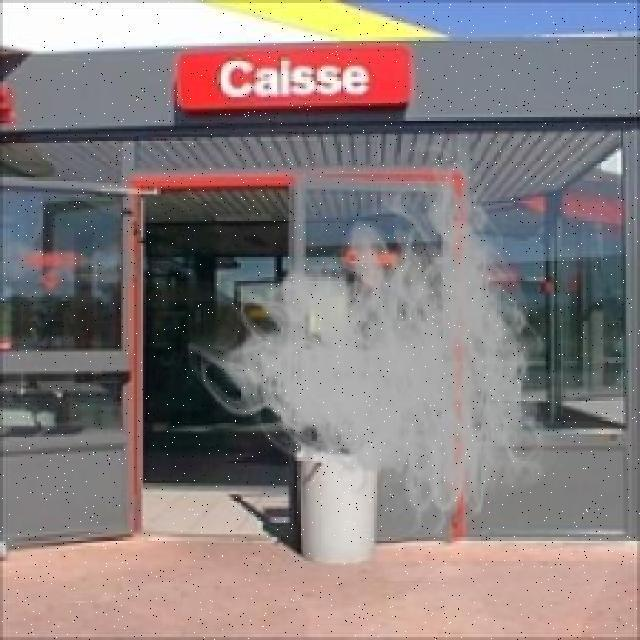smoke: (211, 203, 569, 534)
